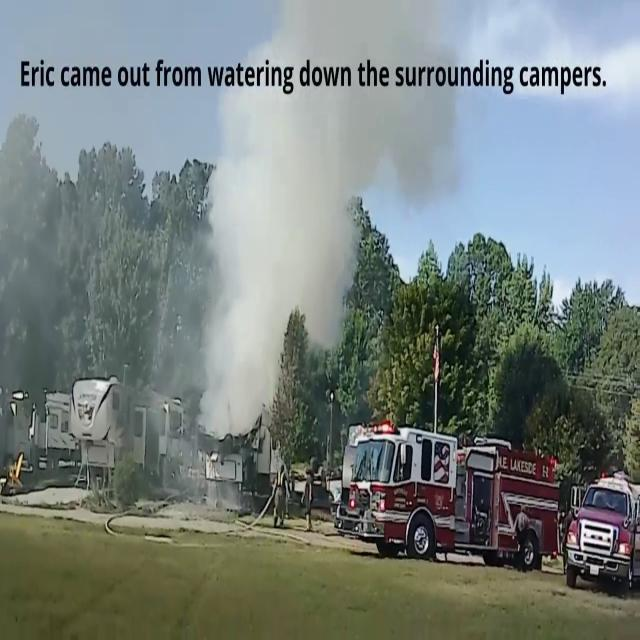Smoke: (190, 0, 460, 422)
